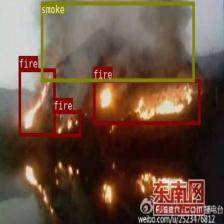fire: (93, 78, 200, 124), (18, 68, 55, 135), (53, 110, 80, 136)
smoke: (40, 1, 194, 81)
